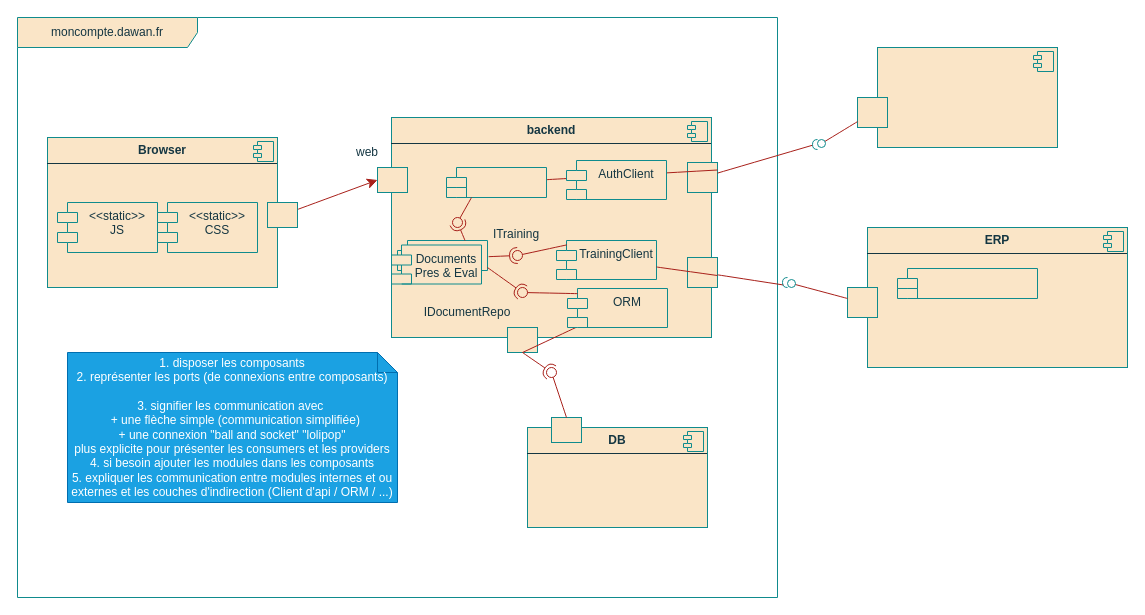
The diagram is 1145 pixels wide and 615 high, and some of its shapes have lost their labels. Here are the shapes that lost their labels. From the top down, the centre of each, then its label:
the point at 967,97: SSO
the point at 496,182: Auth
the point at 967,283: TrainingProvider
